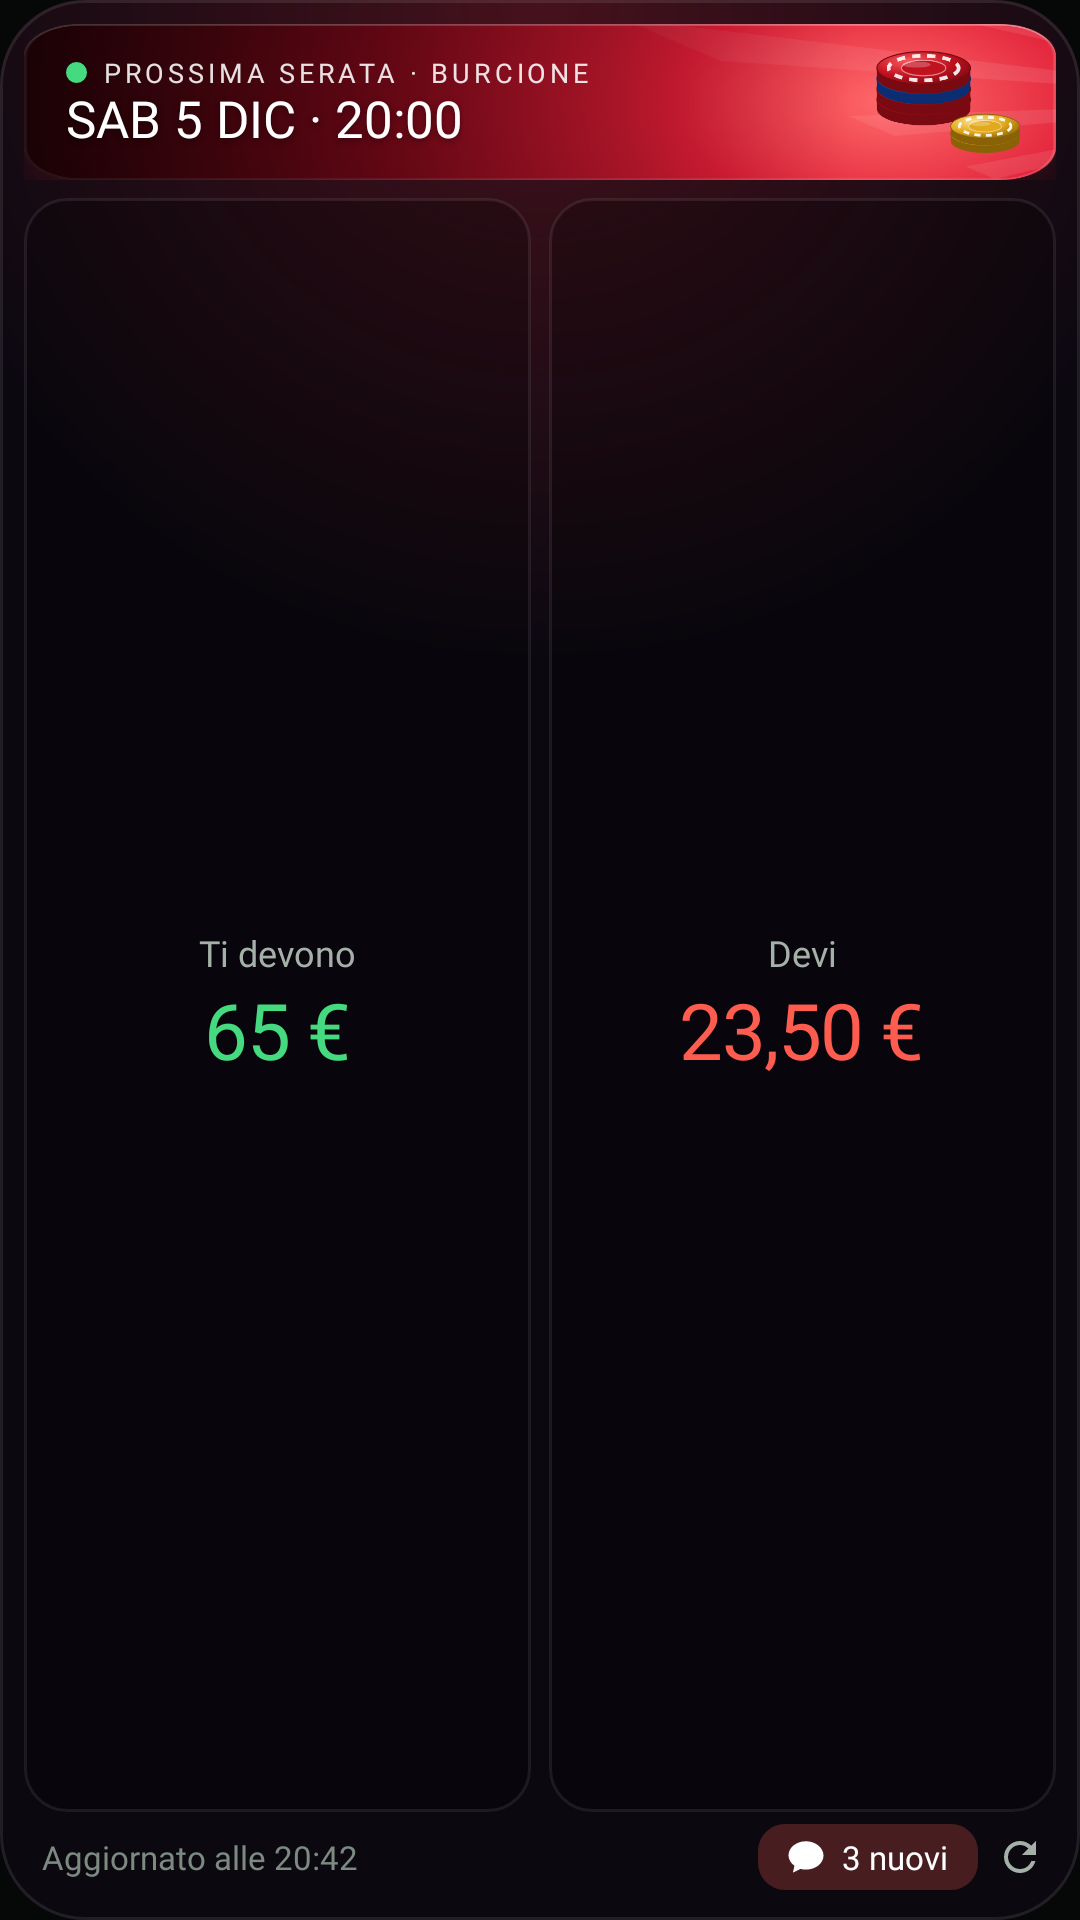

Named icons in this screenshot (1080px x 1920px) and their bounding boxes, (x1, y1, x2, y2):
refresh: (1004, 1841, 1036, 1873)
